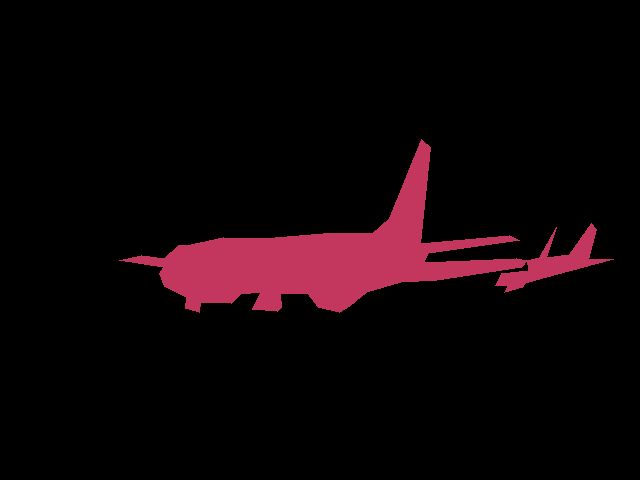Airplane: (119, 139, 527, 312), (495, 223, 614, 293)
